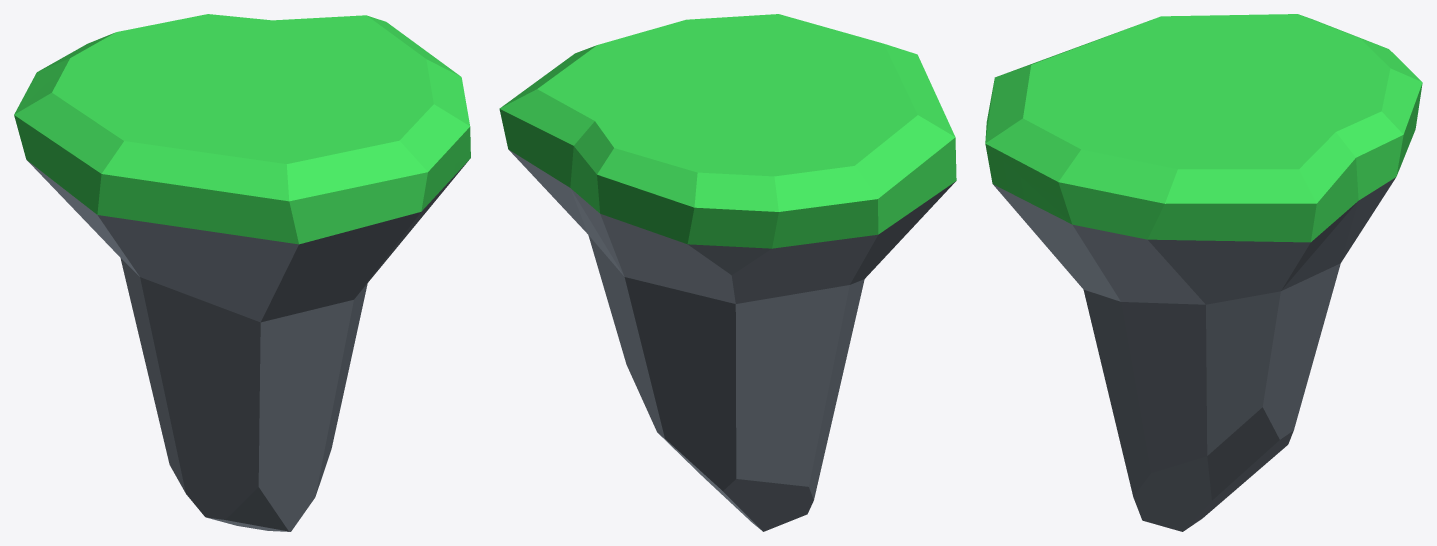
The model's file is testmodelsisland_Island_005.fbx.
3 views of the same model, side by side, from view 1: azimuth 30°, elevation 25°; view 2: azimuth 150°, elevation 25°; view 3: azimuth 270°, elevation 25° (orthographic).
Visible parts, largest first — view 1: island_Island_005; view 2: island_Island_005; view 3: island_Island_005.
Boxes of the visible parts, left/top/right/bottom form: island_Island_005: left=14, top=14, right=470, bottom=531; island_Island_005: left=499, top=14, right=956, bottom=531; island_Island_005: left=985, top=14, right=1422, bottom=531.
Size of the model in its own units: 640 by 711 by 641.
